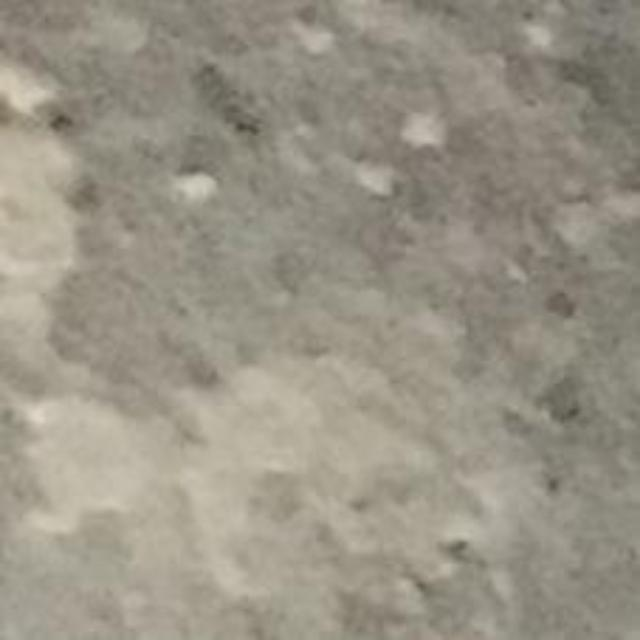peeling plaster: (26, 367, 428, 597)
